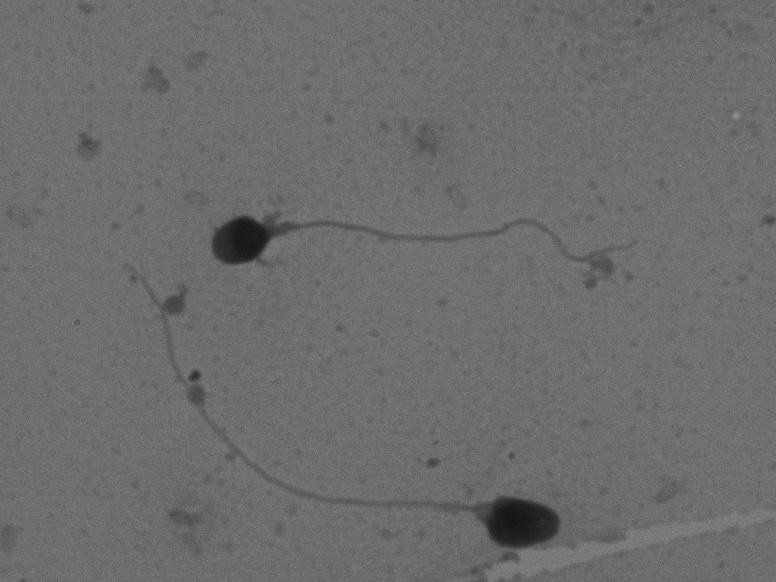Abnormal: (125, 331, 591, 570), (182, 159, 664, 316)
